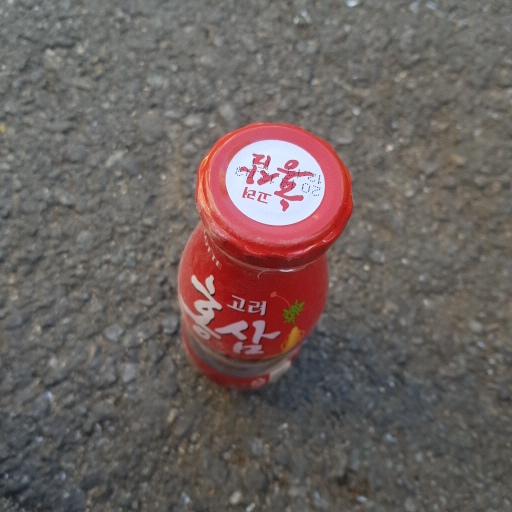Glass_4: (176, 124, 353, 390)
